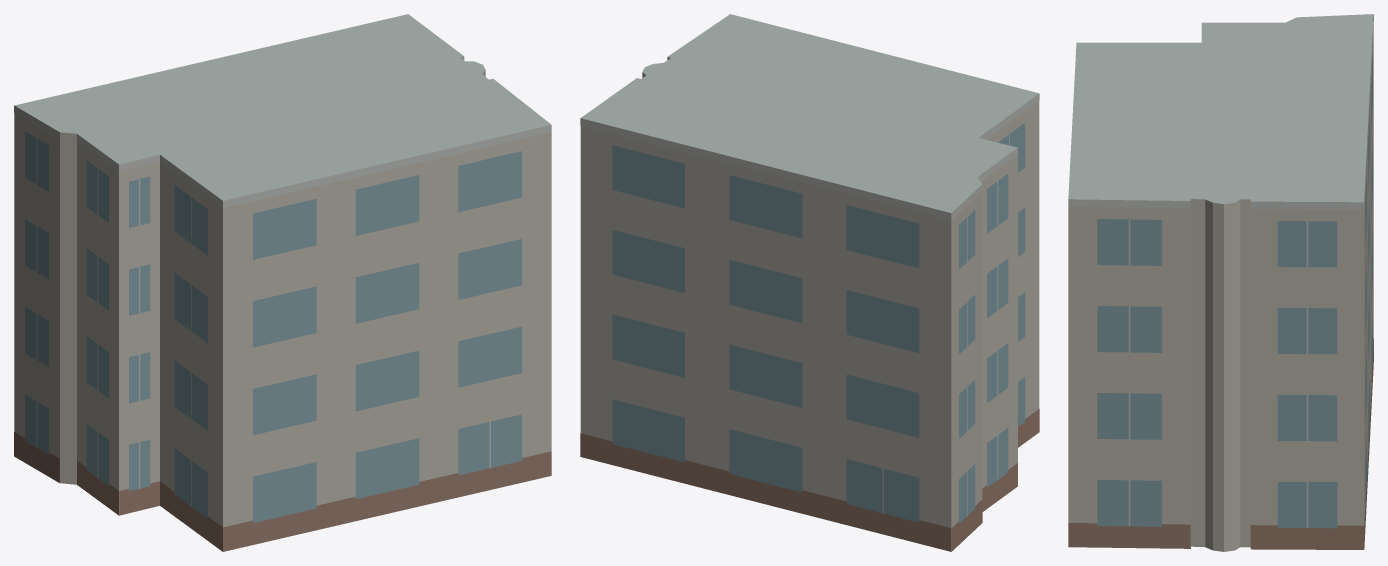
The model's file is survey-upis-32576906.glb.
3 views of the same model, side by side, from view 1: azimuth 30°, elevation 25°; view 2: azimuth 150°, elevation 25°; view 3: azimuth 270°, elevation 25° (orthographic). The views are drawn at different scales.
Visible parts, largest first — view 1: survey-upis-32576906.tmp; view 2: survey-upis-32576906.tmp; view 3: survey-upis-32576906.tmp.
Part boxes in pixels (x1,y1,x2,y2): survey-upis-32576906.tmp: (14,14,551,551); survey-upis-32576906.tmp: (580,14,1039,551); survey-upis-32576906.tmp: (1068,14,1373,551).
Bounding box in the file's own units: 13.73 × 11.7 × 9.32.
